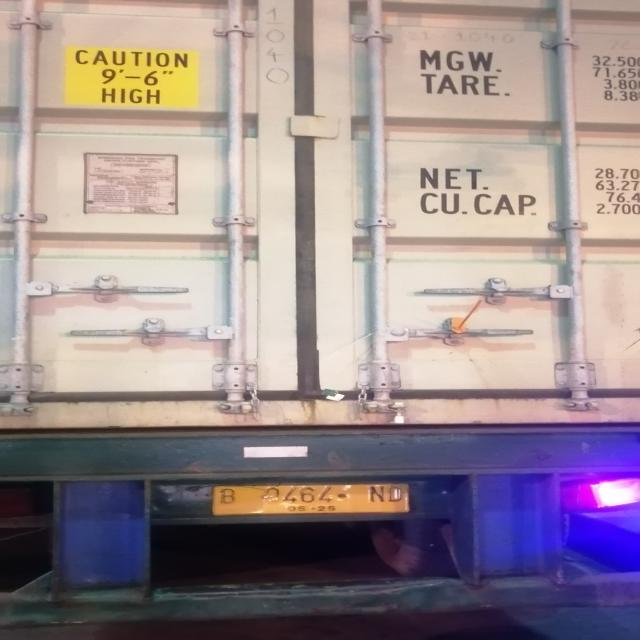seal: (446, 298, 482, 334), (387, 401, 410, 424)
